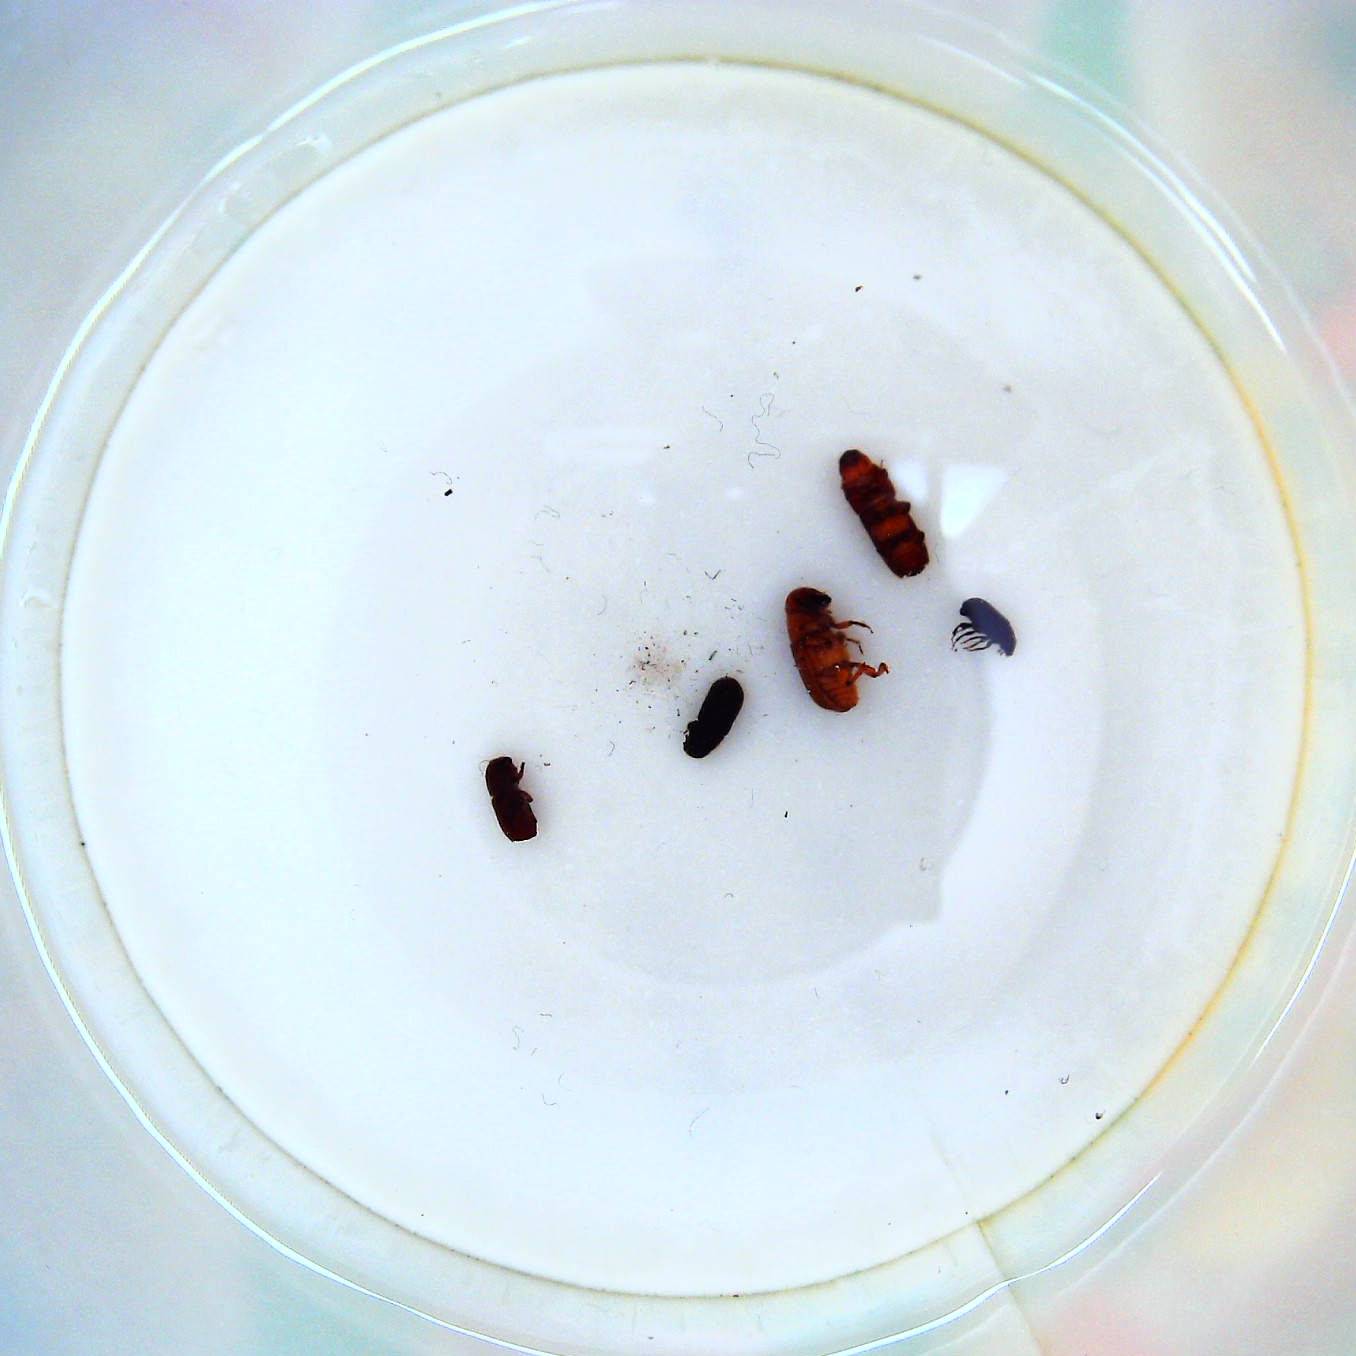Boerner: (829, 445, 935, 585)
Leconte: (789, 580, 894, 719)
armandi: (677, 671, 750, 767)
coleoptera: (947, 592, 1019, 668)
linnaeus: (481, 751, 541, 851)
